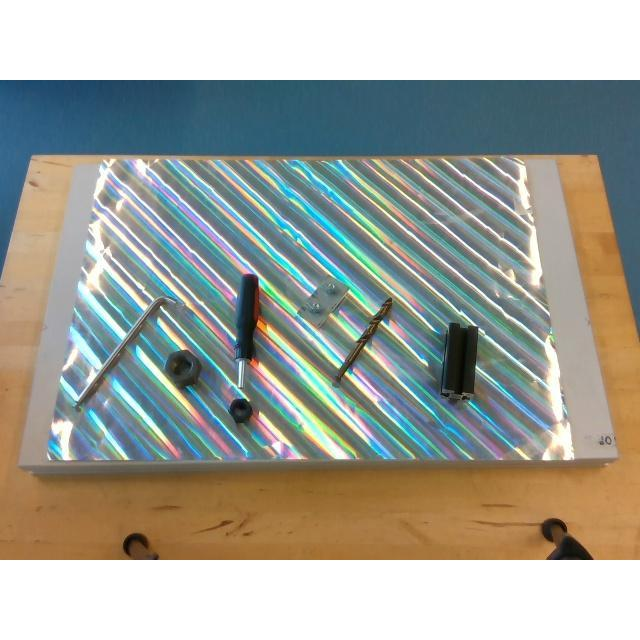AllenKey: (72, 296, 176, 408)
Drill: (332, 296, 392, 379)
M20: (228, 398, 252, 422)
M30: (163, 350, 200, 386)
S40_40_B: (440, 322, 478, 398)
